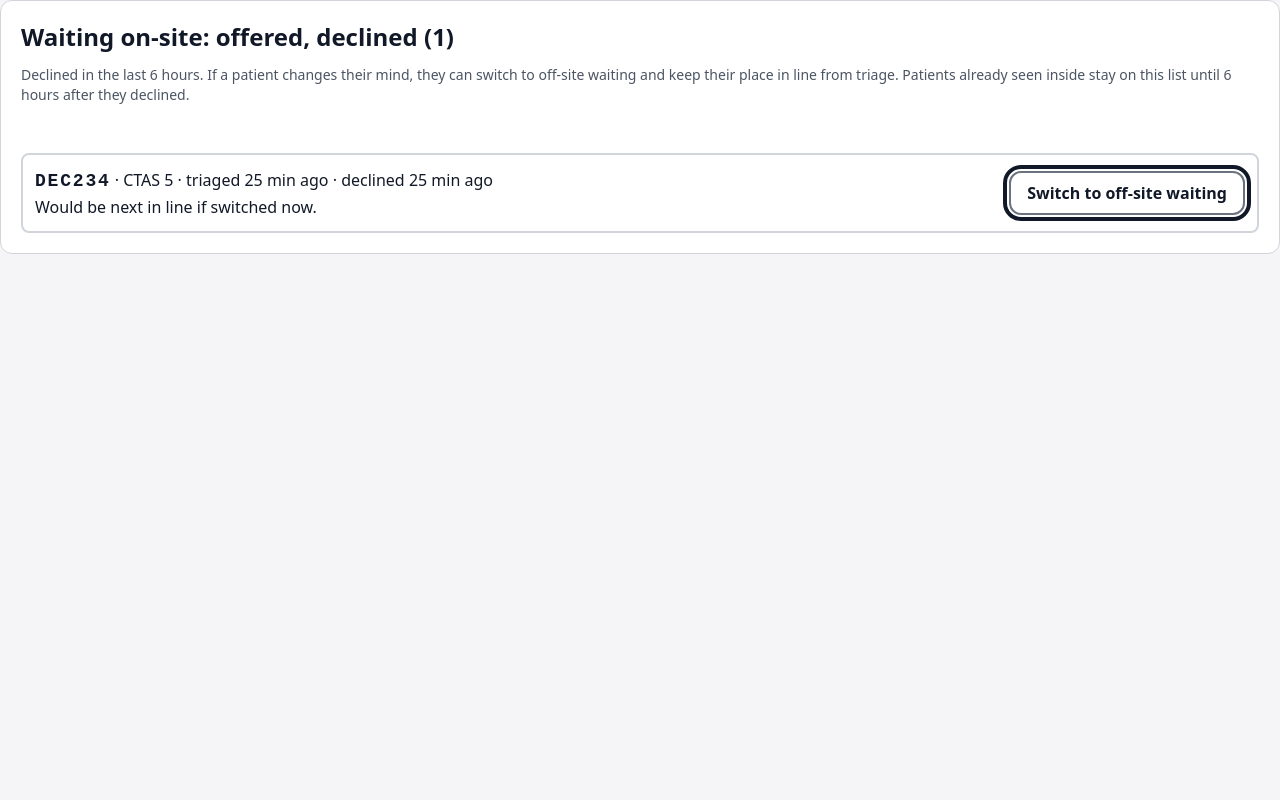
WaitingOnSite › switches after the checklist, shows the slip, and moves focus to the heading
The image size is (1280, 800).
Click the button "Switch to off-site waiting" at [1127, 193], box [1009, 171, 1245, 215]
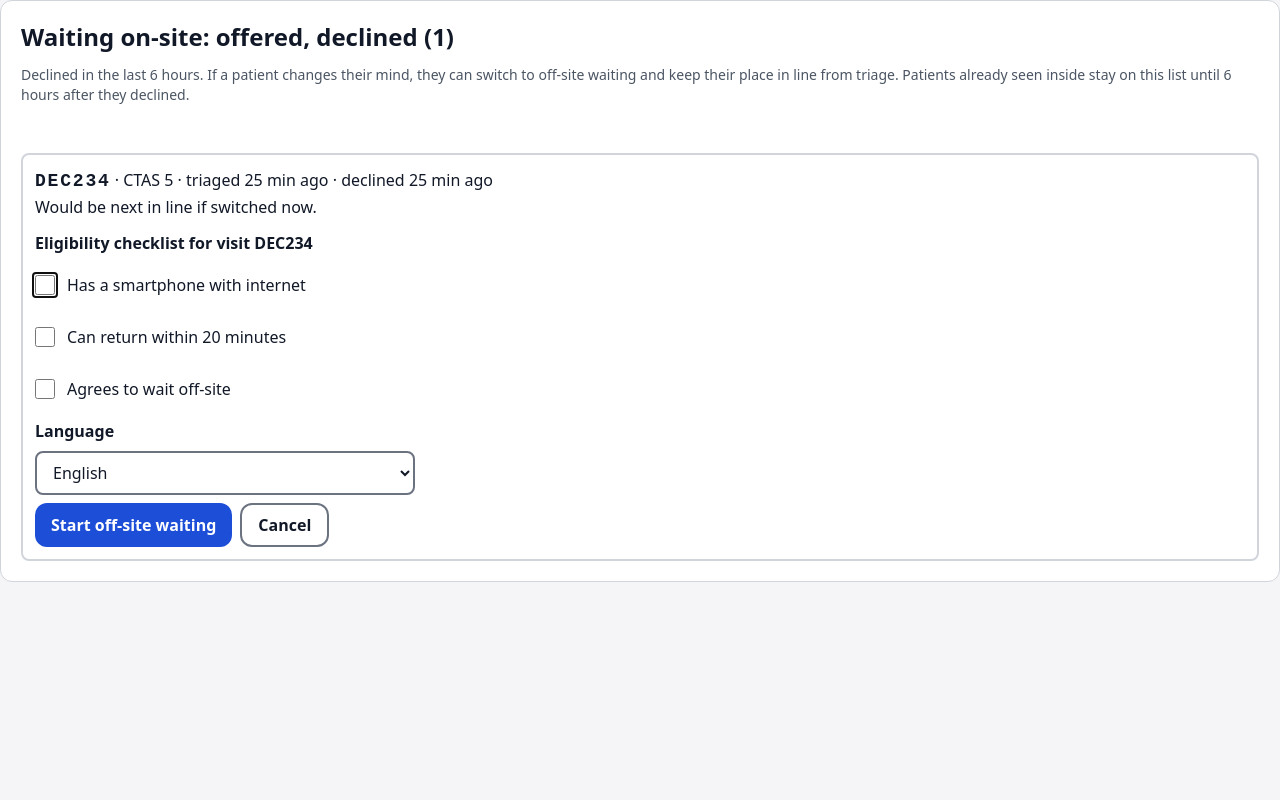
Click the checkbox labelled "Has a smartphone with internet" at [45, 285], box [35, 275, 55, 295]
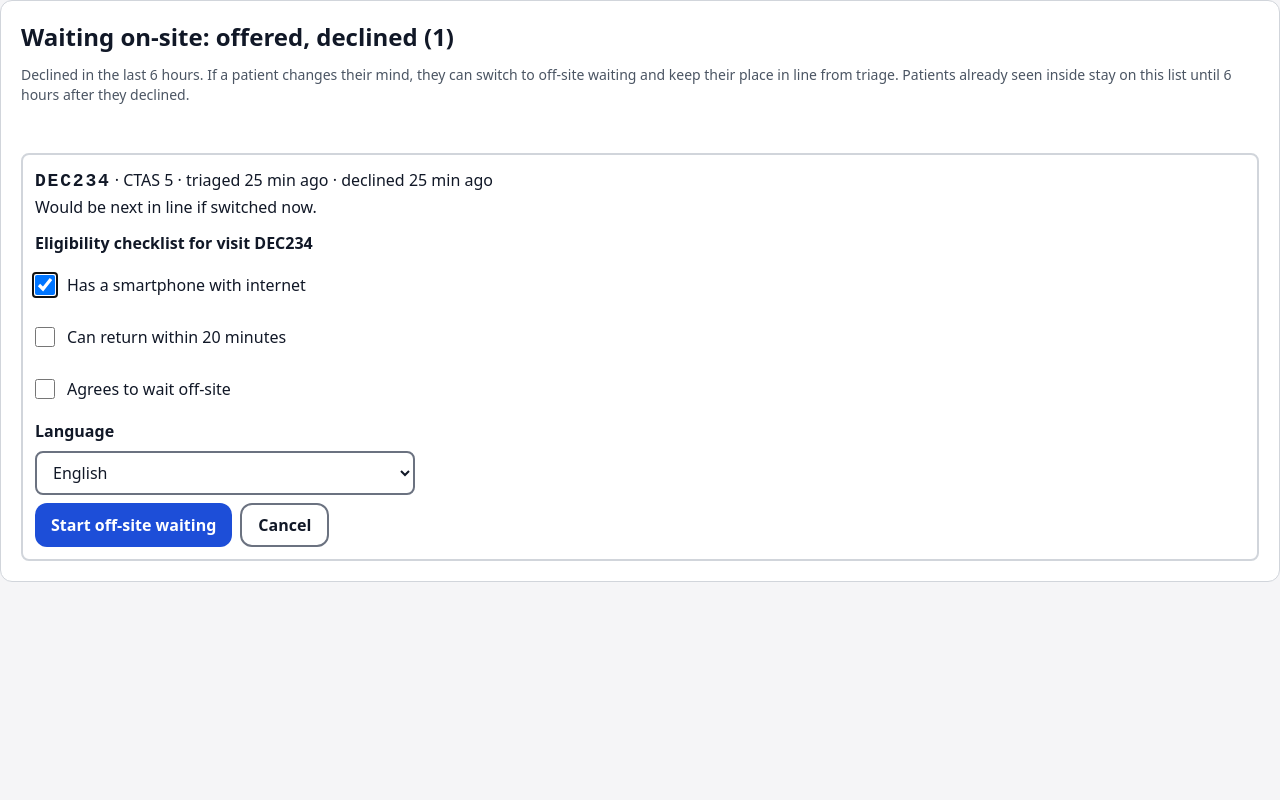
Click the checkbox labelled "Can return within 20 minutes" at [45, 337], box [35, 327, 55, 347]
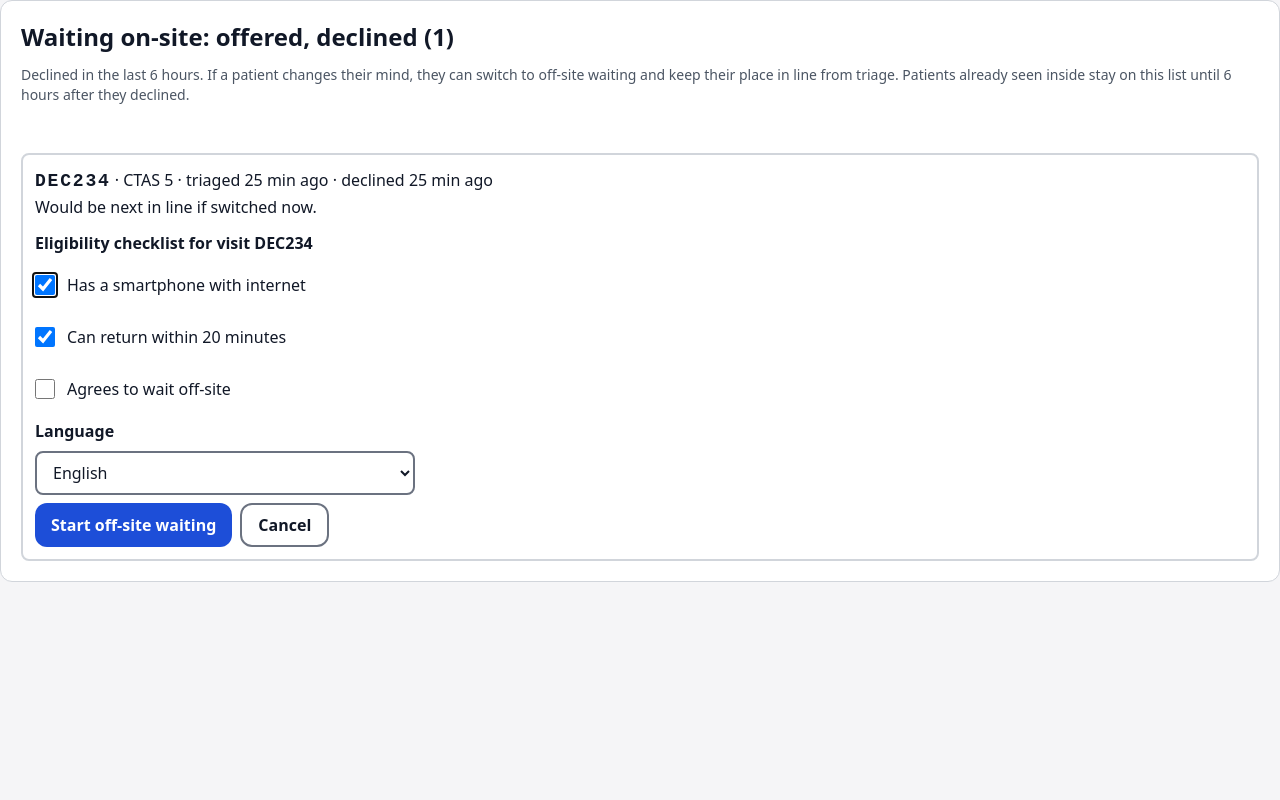
Click the checkbox labelled "Agrees to wait off-site" at [45, 389], box [35, 379, 55, 399]
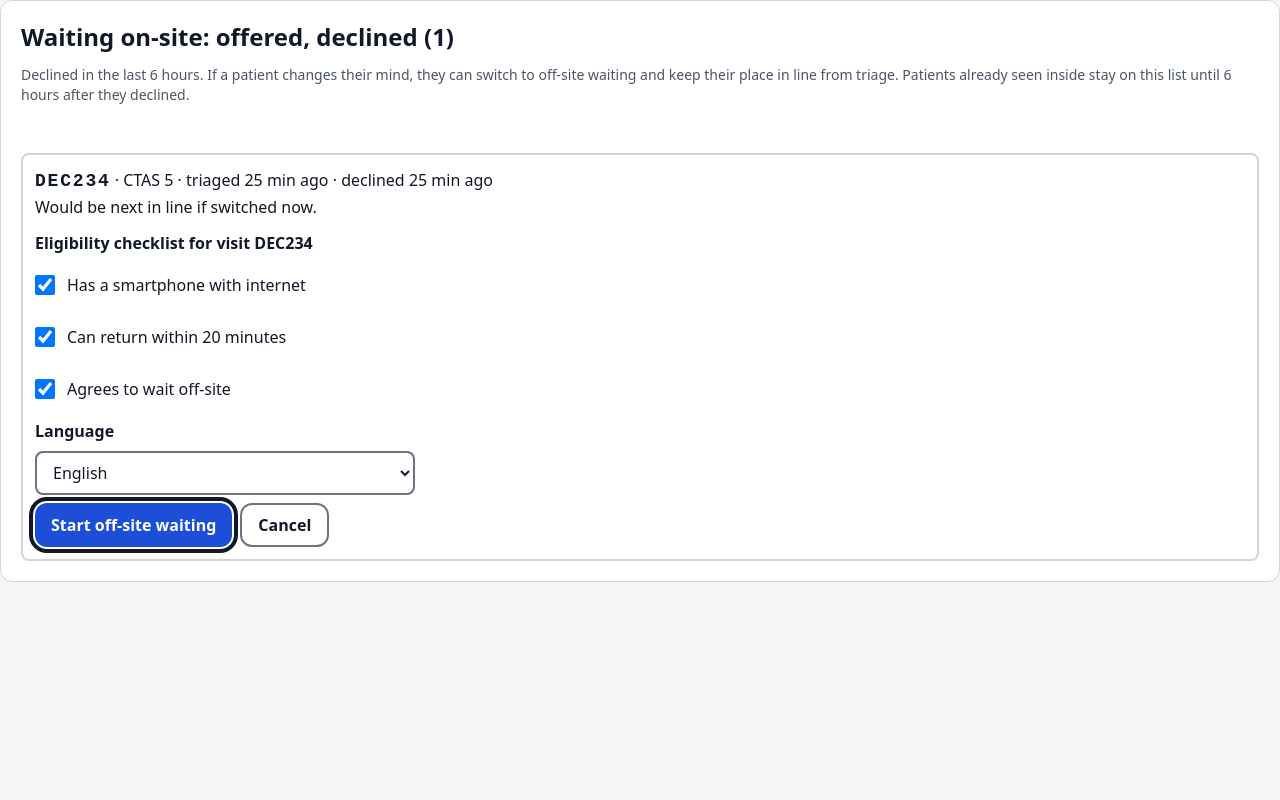
Click the button "Start off-site waiting" at [134, 525], box [35, 503, 232, 547]
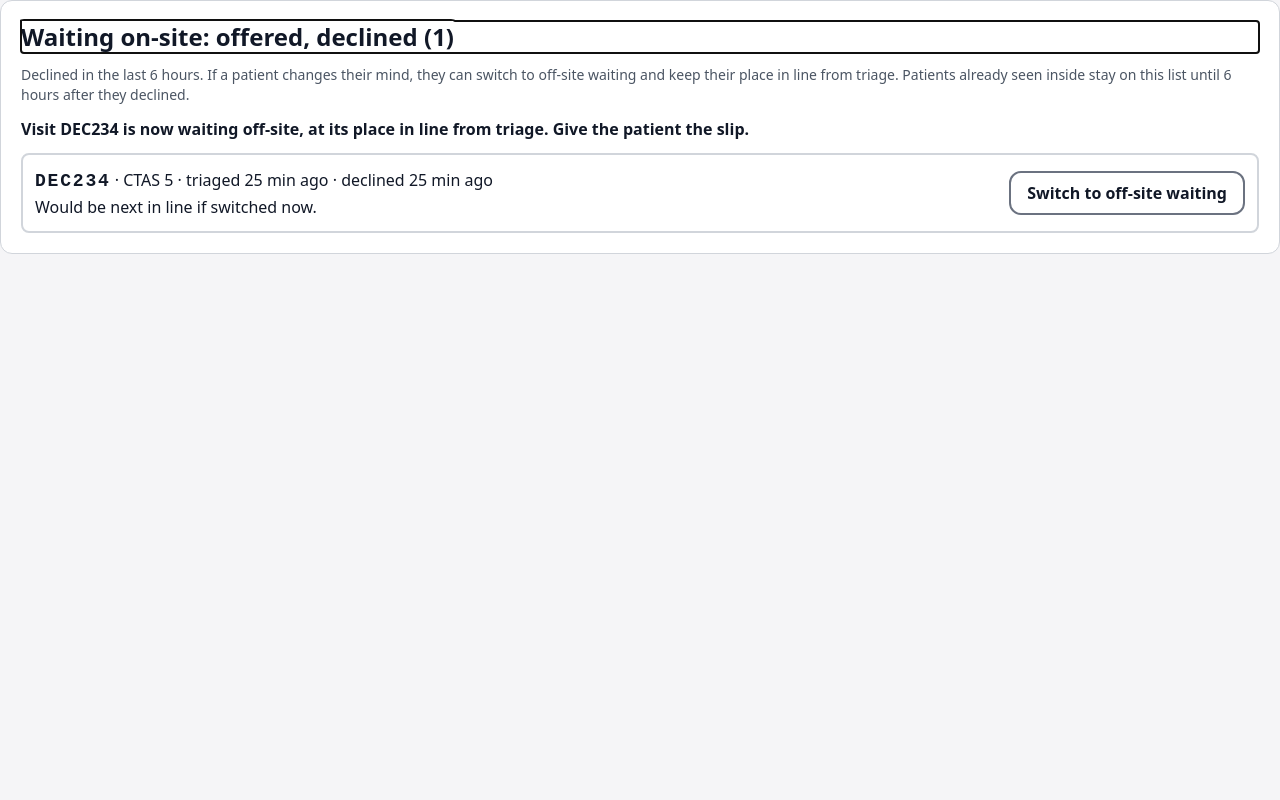
expect the text "Visit DEC234 is now waiting off-site" is shown: met, box [21, 118, 749, 140]
